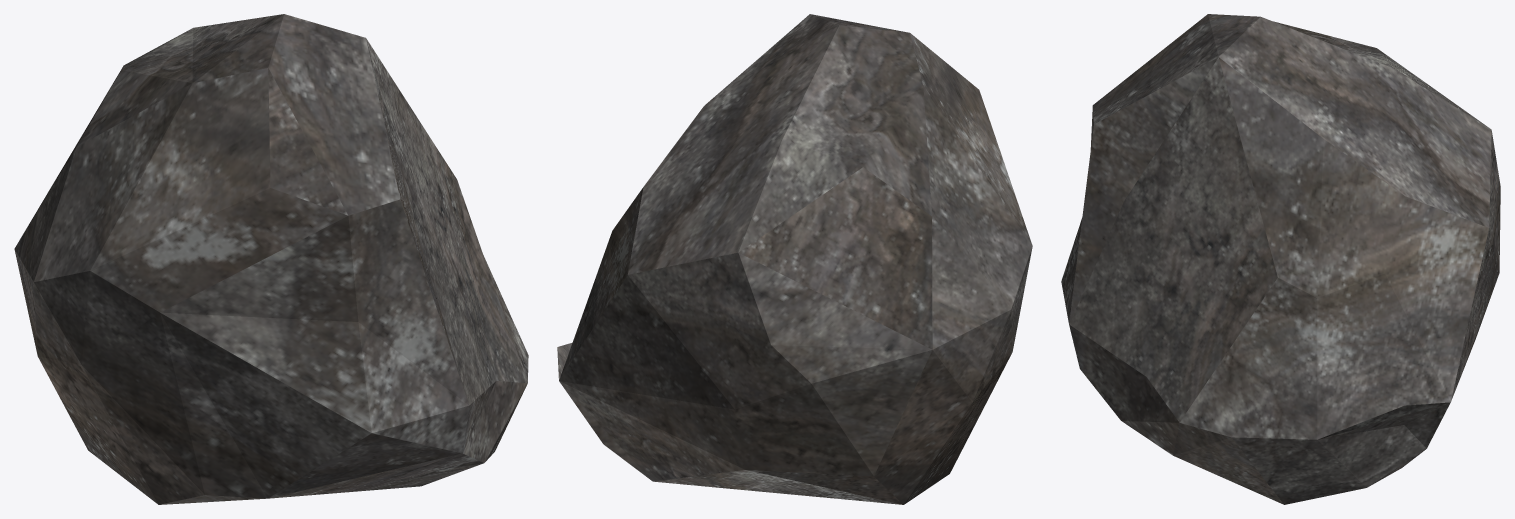
Rendered from LampLight_AltRock_1.FBX.
3 renders of one model, left to right at view 1: azimuth 30°, elevation 25°; view 2: azimuth 150°, elevation 25°; view 3: azimuth 270°, elevation 25°, orthographic. The views are drawn at different scales.
Visible parts, largest first — view 1: Bg_Rock_8; view 2: Bg_Rock_8; view 3: Bg_Rock_8.
Part boxes in pixels (x1,y1,x2,y2): Bg_Rock_8: (14, 14, 528, 504); Bg_Rock_8: (557, 14, 1032, 504); Bg_Rock_8: (1061, 14, 1500, 504).
Size of the model in its own units: 88.66 by 92.02 by 85.78.
